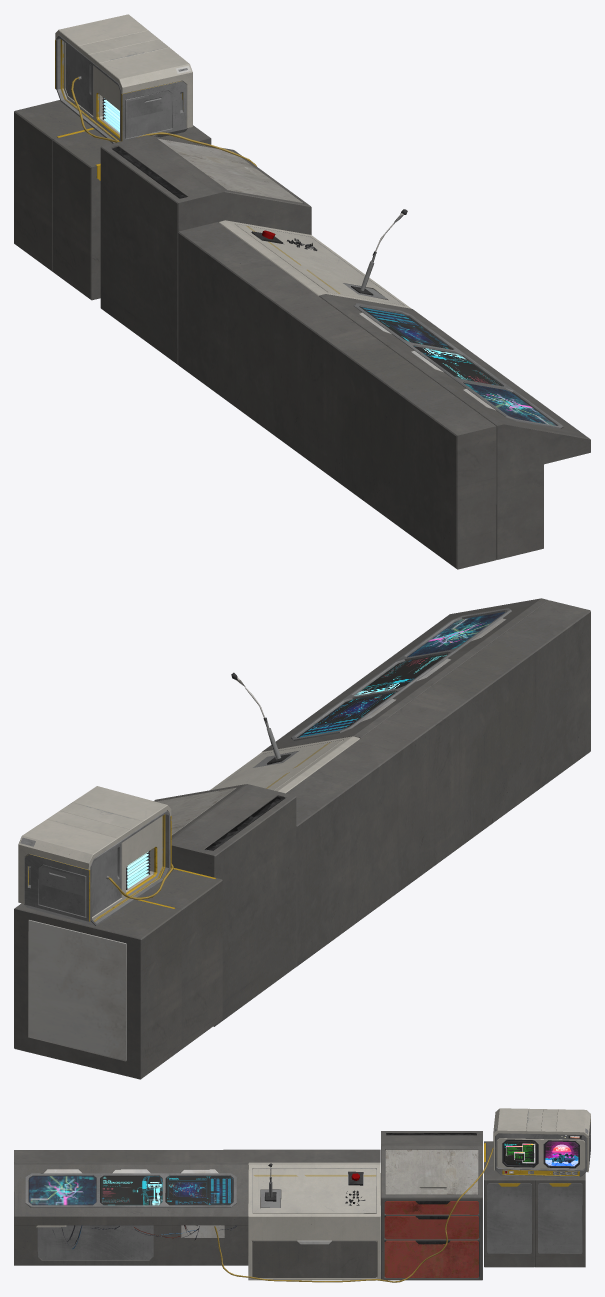
File: SM_InteriorScreens.FBX
The picture shows the model from 3 angles, top to bottom: view 1: azimuth 30°, elevation 25°; view 2: azimuth 150°, elevation 25°; view 3: azimuth 270°, elevation 25°; orthographic projection. The views are drawn at different scales.
Visible parts, largest first — view 1: SM_InteriorScreens; view 2: SM_InteriorScreens; view 3: SM_InteriorScreens.
Part boxes in pixels (box(x1,y1,x2,y2)): SM_InteriorScreens: box(14, 14, 590, 569); SM_InteriorScreens: box(14, 598, 590, 1079); SM_InteriorScreens: box(14, 1108, 590, 1282).
Bounding box in the file's own units: 115 × 566 × 151.
8 materials, 8 textured.
